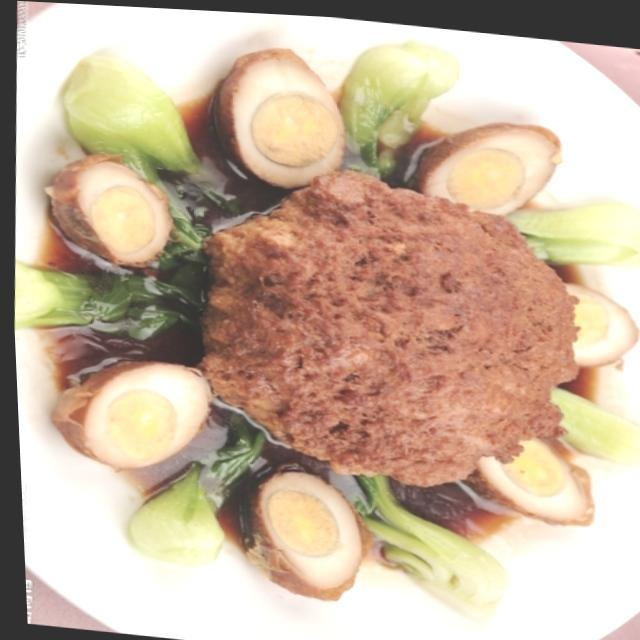猪肉菜式: (22, 1, 640, 640)
